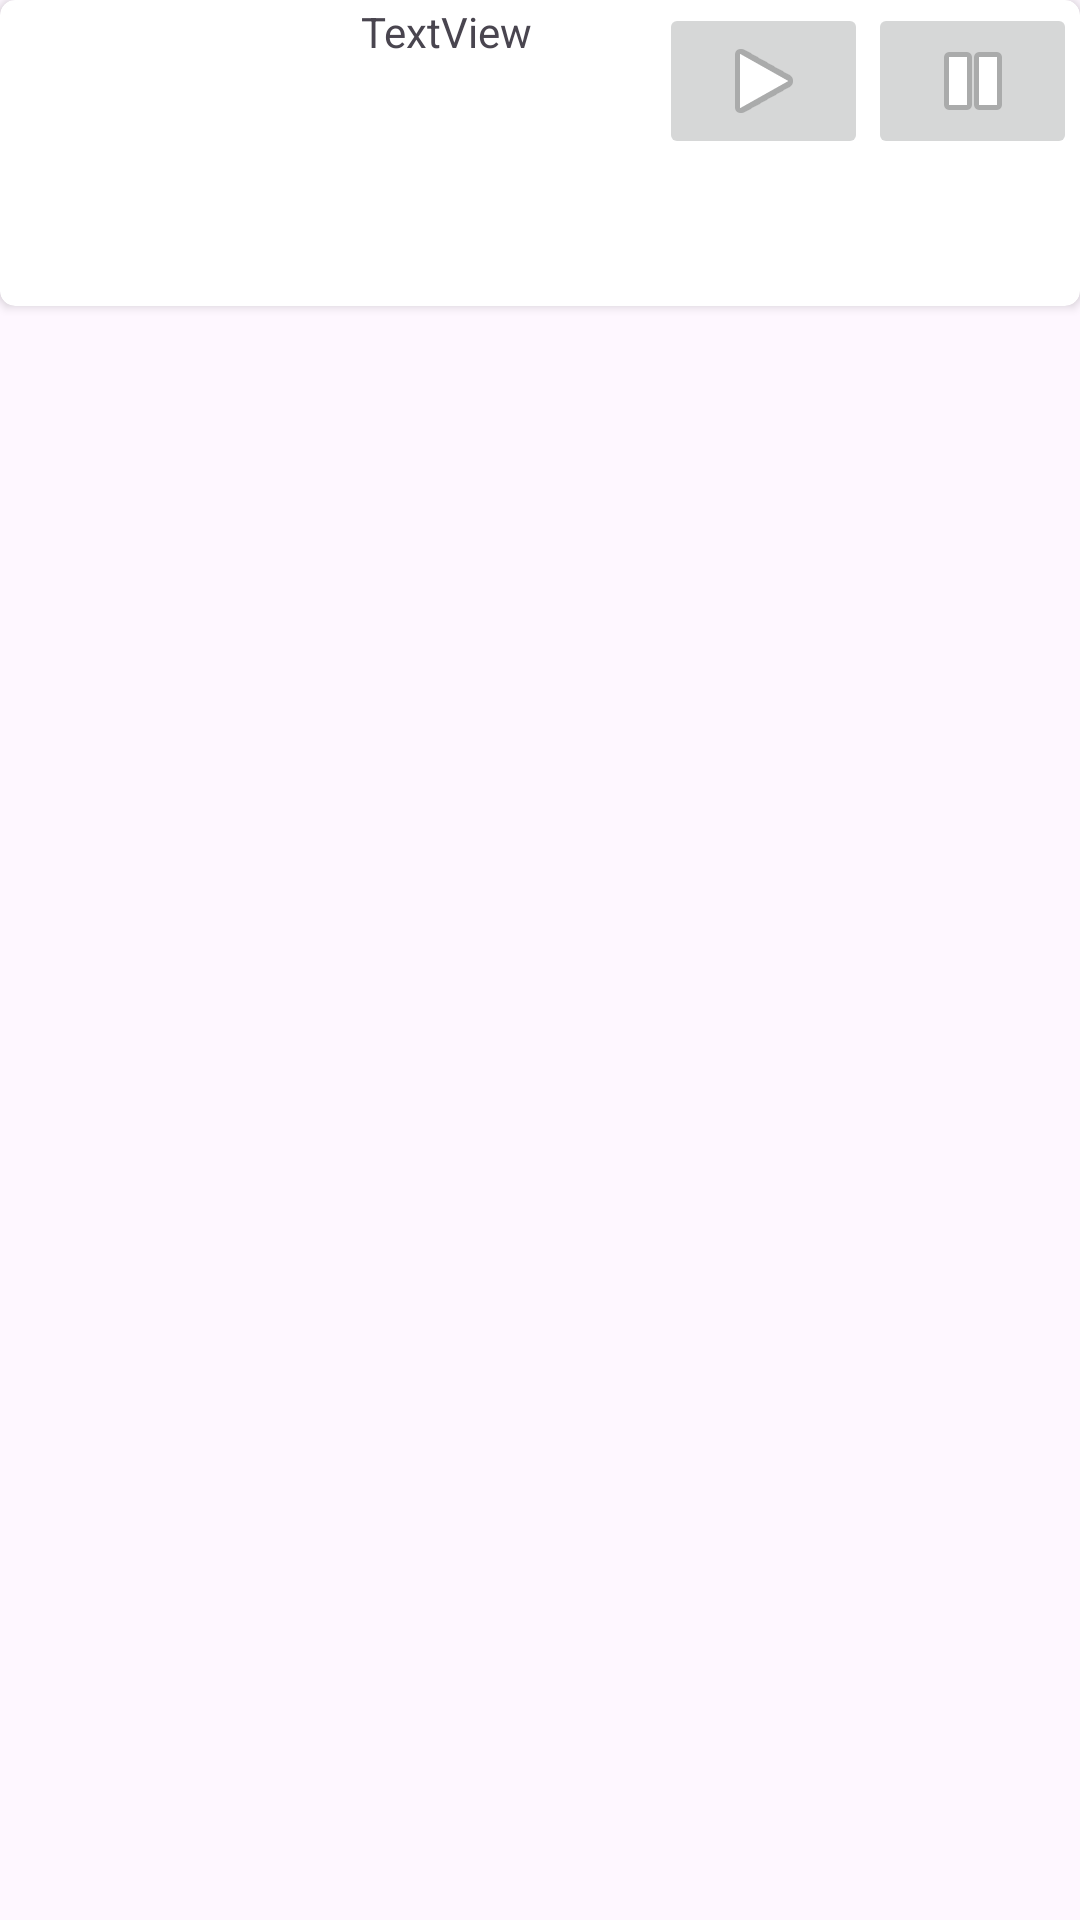

Where icons sit on this 1080x1920 app screen, as (x1, y1, x2, y2):
pause: (880, 21, 1065, 141)
play: (671, 21, 856, 141)
